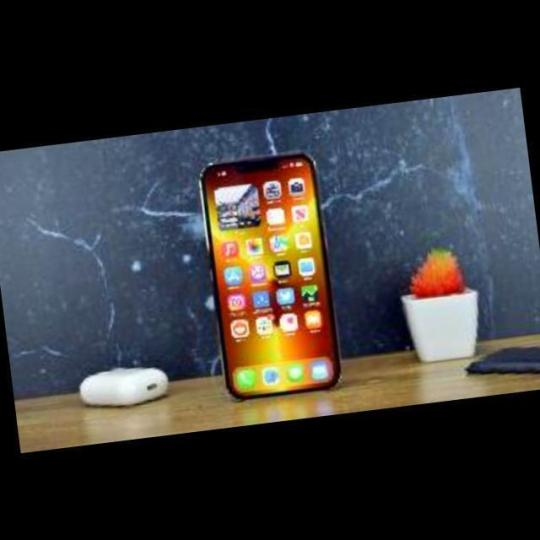phone: (195, 151, 346, 399)
